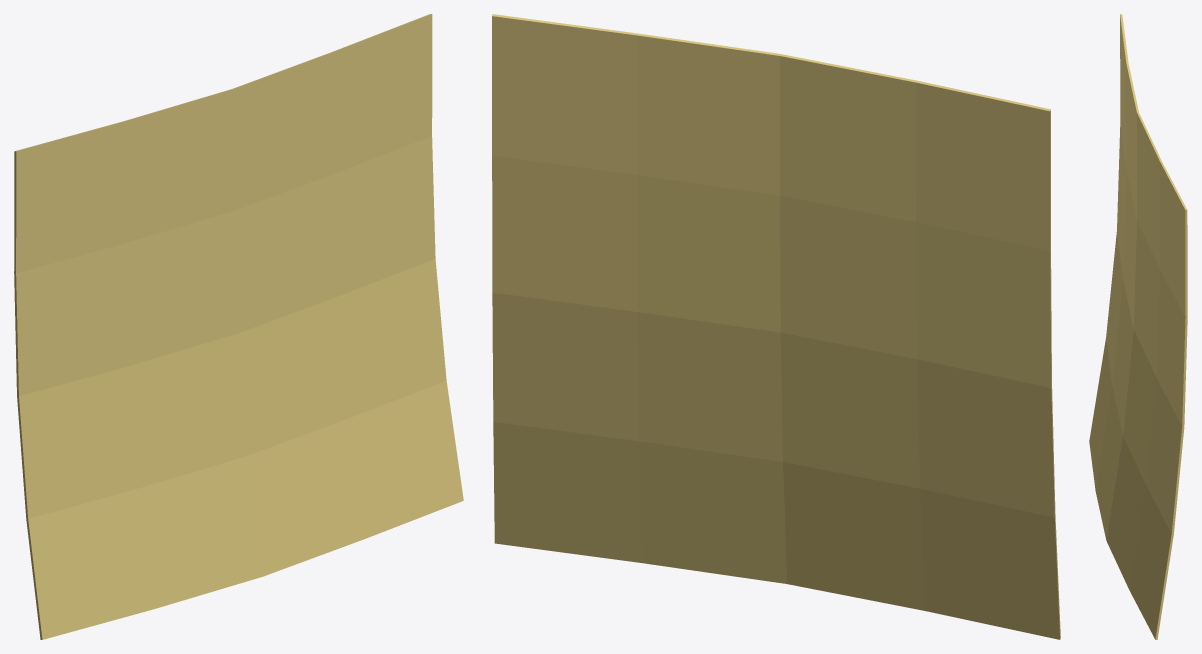
File: lap3-2x.fbx
3 renders of one model, left to right at view 1: azimuth 30°, elevation 25°; view 2: azimuth 150°, elevation 25°; view 3: azimuth 270°, elevation 25°, orthographic. The views are drawn at different scales.
Parts seen in each view (by area): view 1: Lap.002; view 2: Lap.002; view 3: Lap.002.
Boxes of the visible parts, x1,y1,x2,y2 form: Lap.002: (14,14,463,639); Lap.002: (492,14,1060,639); Lap.002: (1089,14,1187,639).
Size of the model in its own units: 27.33 by 26.71 by 5.62.
